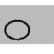no answer: (3, 18, 31, 42)
